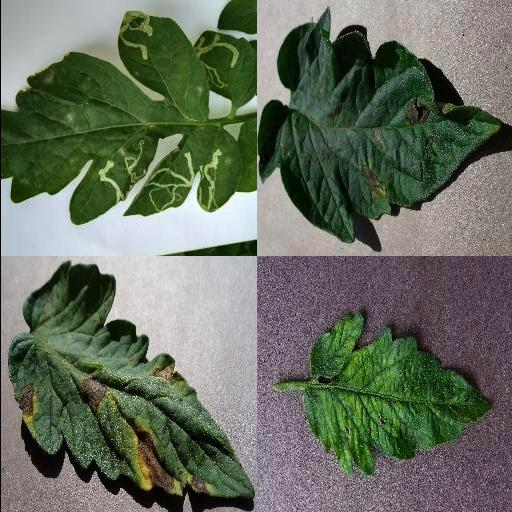Early Blight: (6, 262, 254, 498), (256, 7, 502, 242)
Leaf Miner: (0, 10, 241, 225), (193, 30, 256, 109)
Mosaic Virus: (305, 309, 495, 477)
